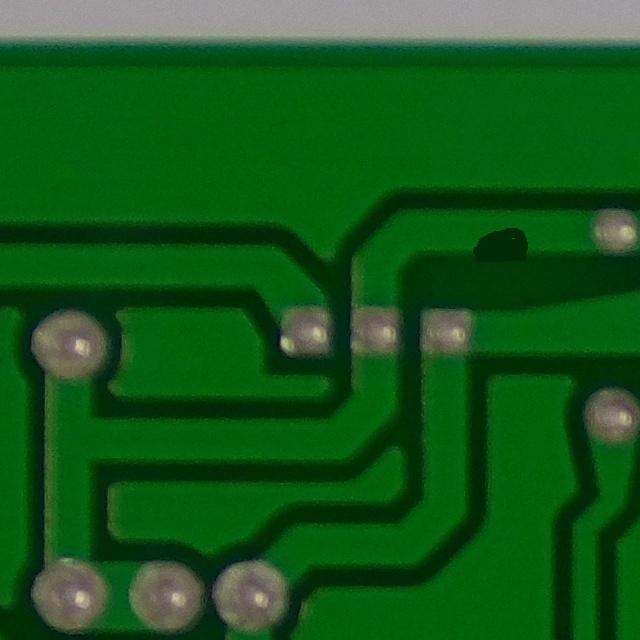mouse_bite: (447, 201, 540, 272)
